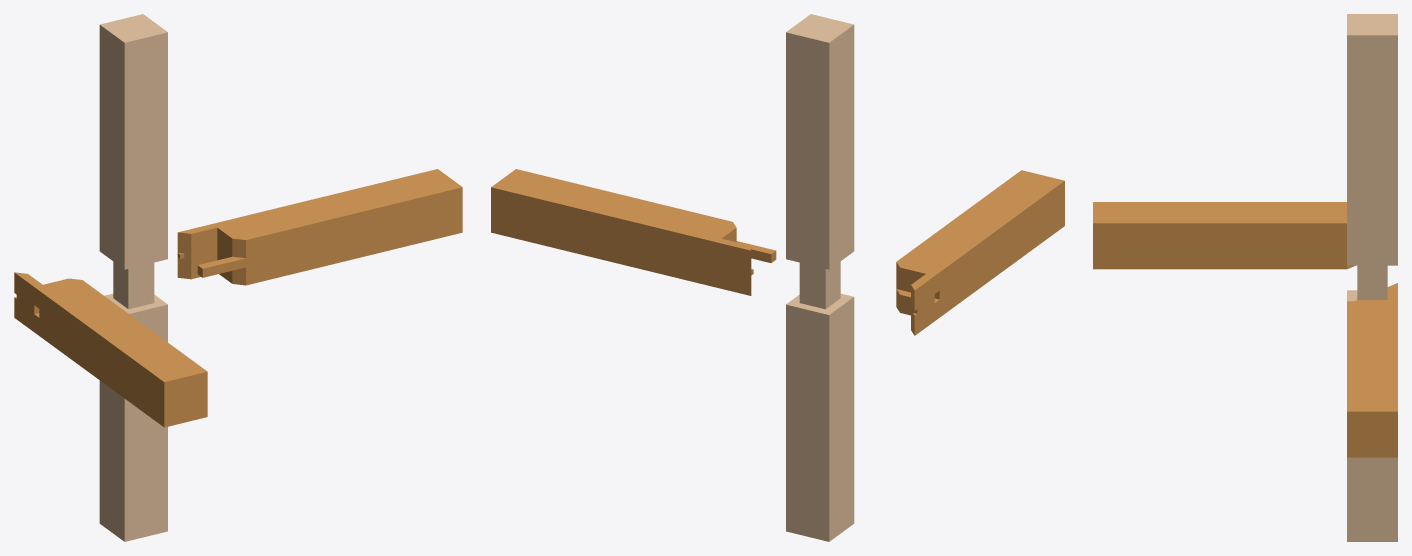
3 views of the same model, side by side, from view 1: azimuth 30°, elevation 25°; view 2: azimuth 150°, elevation 25°; view 3: azimuth 270°, elevation 25° (orthographic).
Bounding box in the file's own units: 9.77 × 11 × 6.
